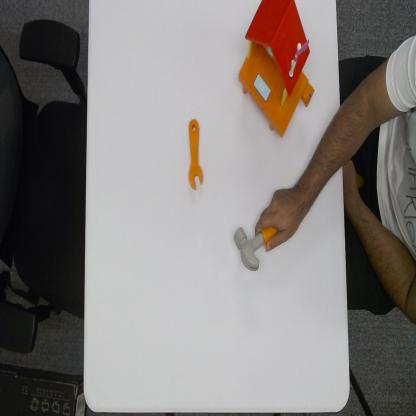Arm: (317, 93, 375, 211)
Hammer: (231, 220, 279, 272)
Hand: (254, 184, 309, 254)
House: (237, 0, 317, 139)
Screwdriver: (188, 116, 206, 195)
